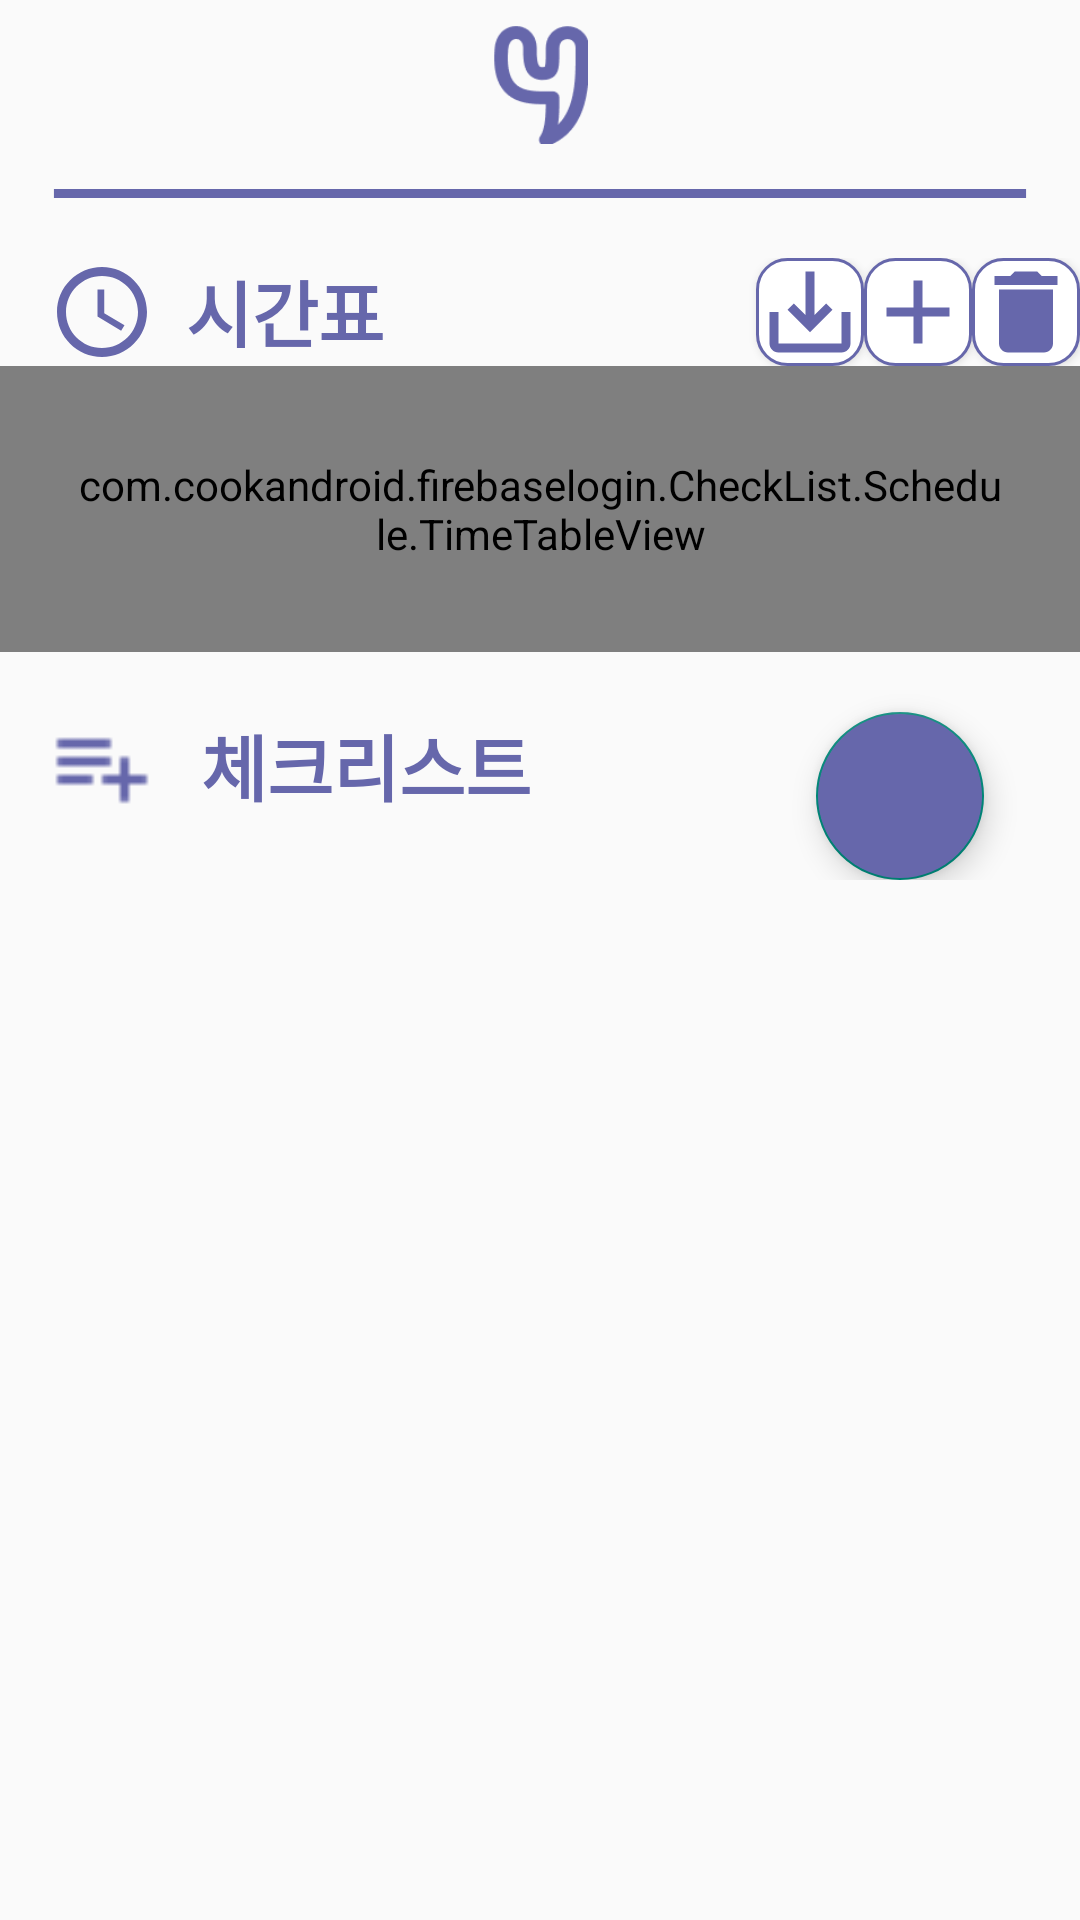

Where to tap for icons on this 1080*1920 app screen, as (x=x, y=y):
access time: (x=102, y=312)
